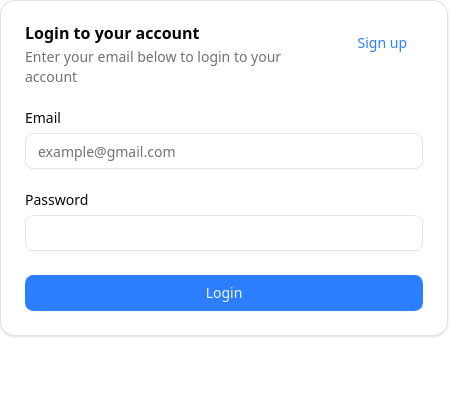
Test case: SignInForm › should display validation errors for invalid data
This screenshot has width=466, height=410.
Click the button "Login".
click(224, 293)  # box [25,275,423,311]
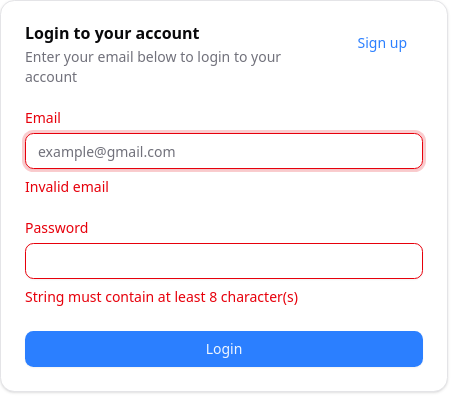
Check: the text "Invalid email" is shown, box [25,177,109,196]
Check: the text "String must contain at least 8 character(s)" is shown, box [25,287,298,306]
